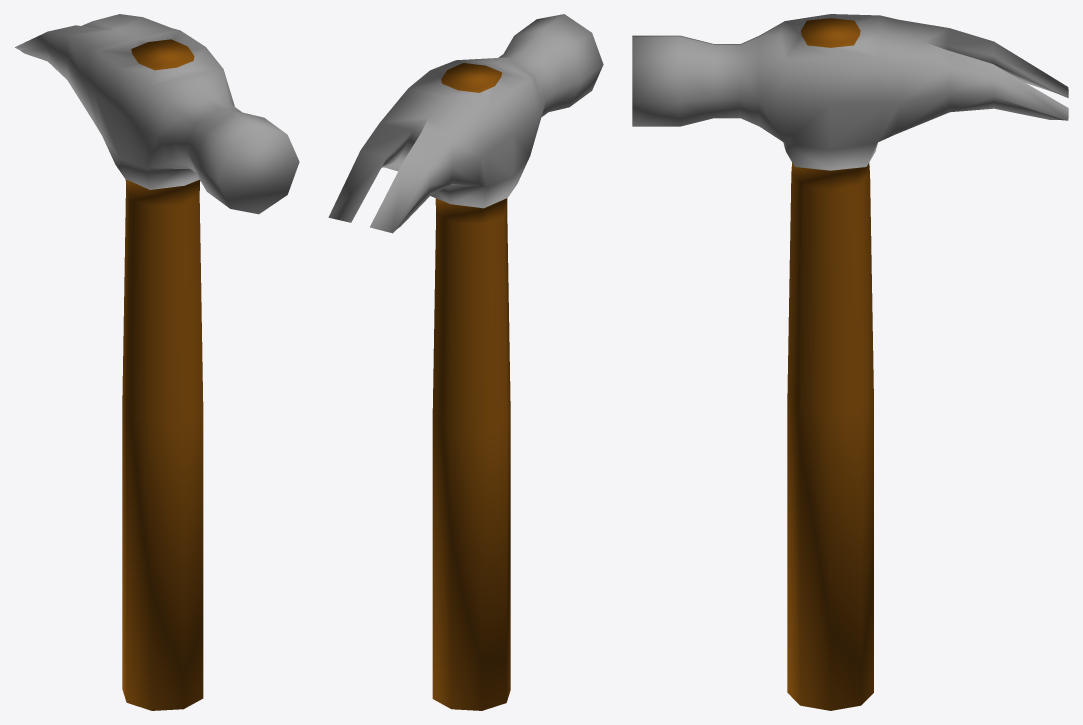
Rendered from Hammer.glb.
The picture shows the model from 3 angles, left to right: view 1: azimuth 30°, elevation 25°; view 2: azimuth 150°, elevation 25°; view 3: azimuth 270°, elevation 25°; orthographic projection. The views are drawn at different scales.
Visible parts, largest first — view 1: Hammer; view 2: Hammer; view 3: Hammer.
Boxes of the visible parts, x1=… form: Hammer: x1=15, y1=14, x2=299, y2=710; Hammer: x1=328, y1=14, x2=603, y2=710; Hammer: x1=632, y1=14, x2=1068, y2=710.
Bounding box in the file's own units: 0.6306 × 4.49 × 2.69.
